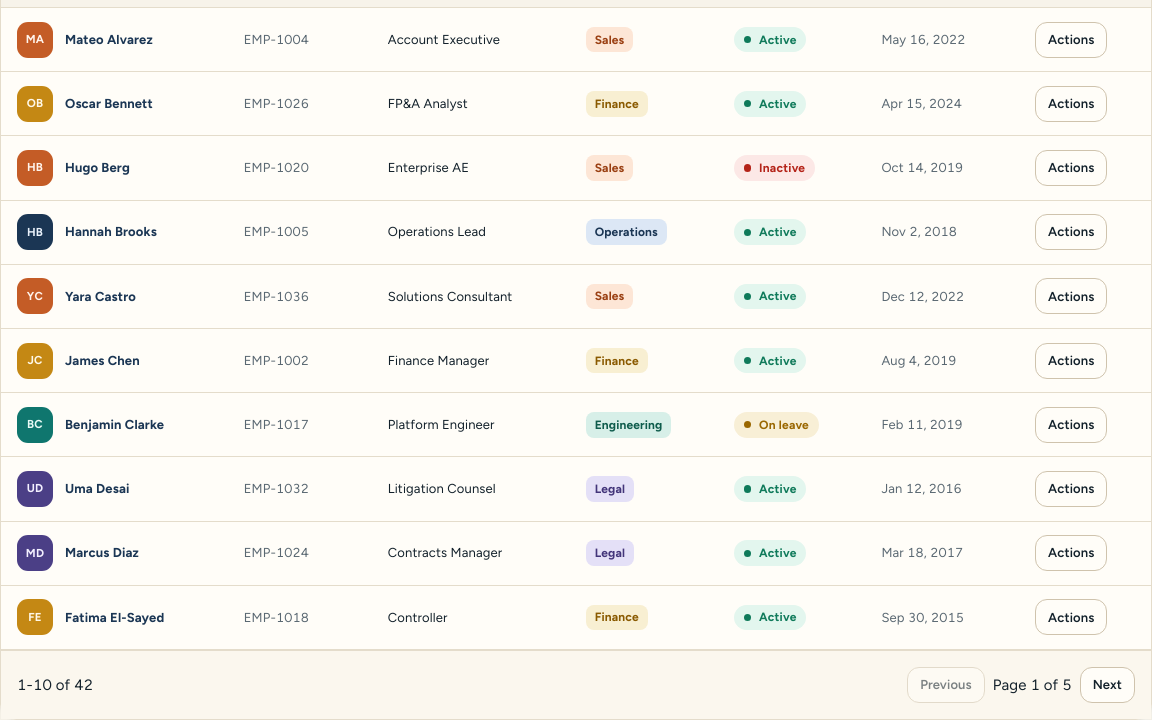
Employee edit form › populates the form and updates the list
The width and height of the screenshot is (1152, 720).
(page scrolled)
Click the button with aria-label "Actions for James Chen" at (1071, 361), box [1035, 343, 1107, 379]
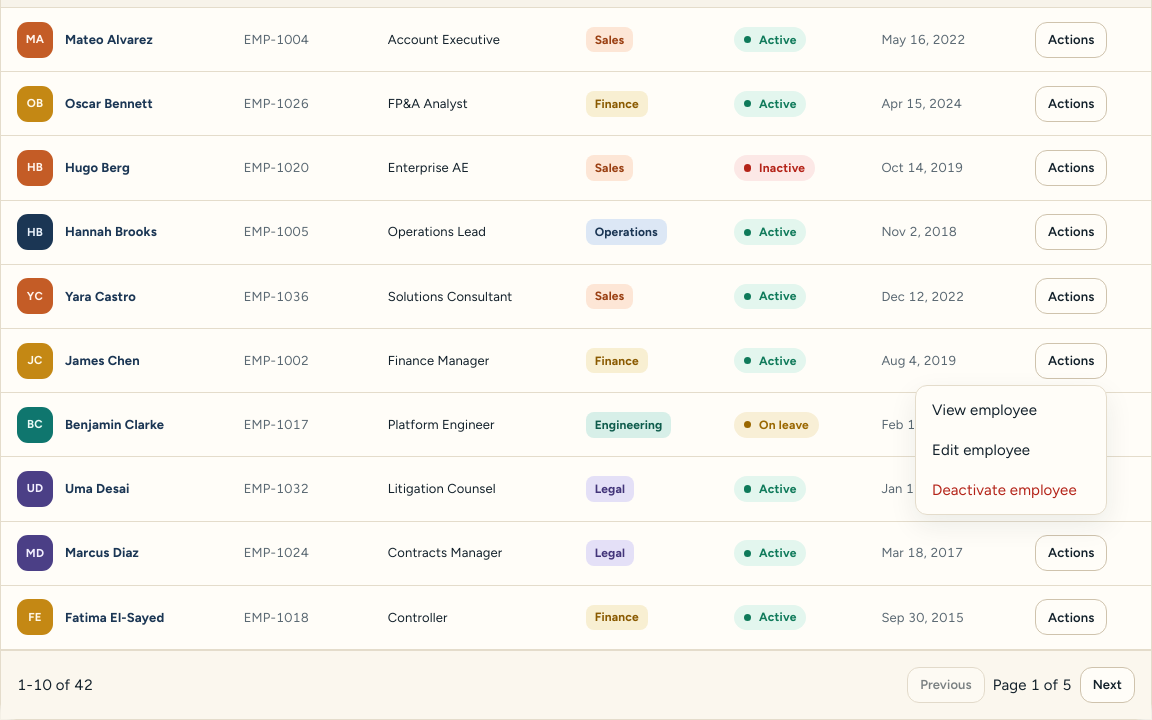
Click the menu item "Edit employee" at (981, 450), box [932, 441, 1030, 459]
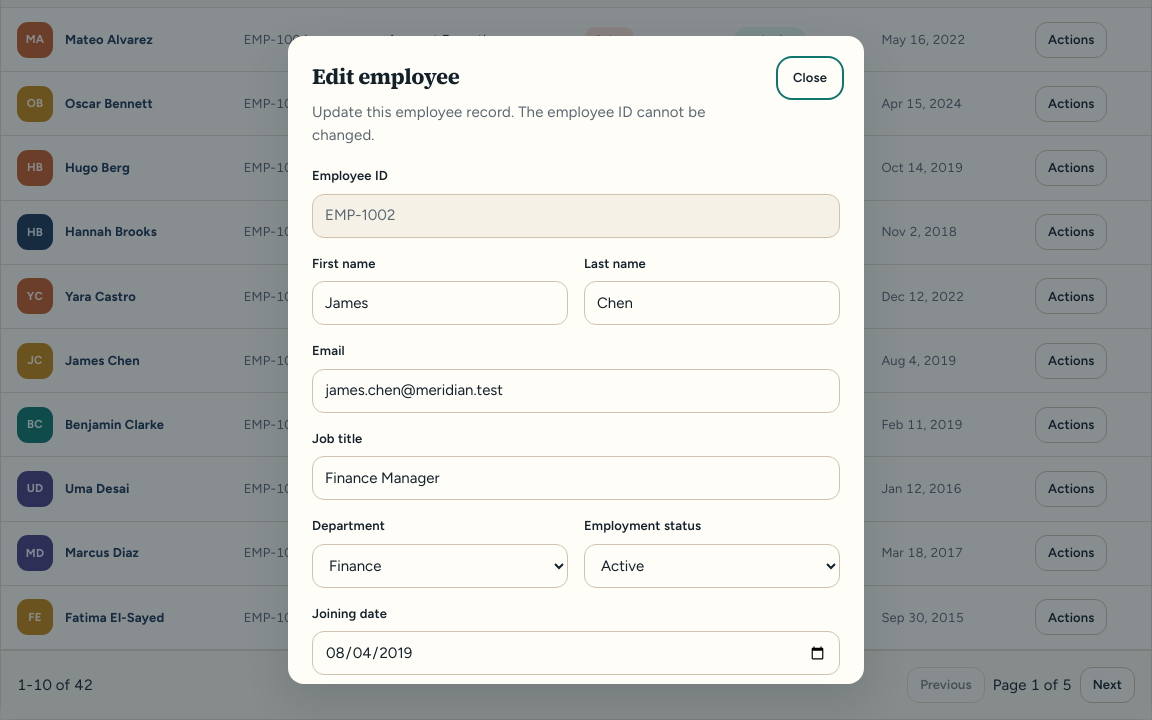
Expected: the field labelled "First name" holds "James", [312, 281, 568, 325]
Expected: the field labelled "Employee ID" holds "EMP-1002", [312, 194, 840, 238]
Replace the text in the field labelled "Job title" with "Director of Finance" at (576, 478), box [312, 456, 840, 500]
(page scrolled)
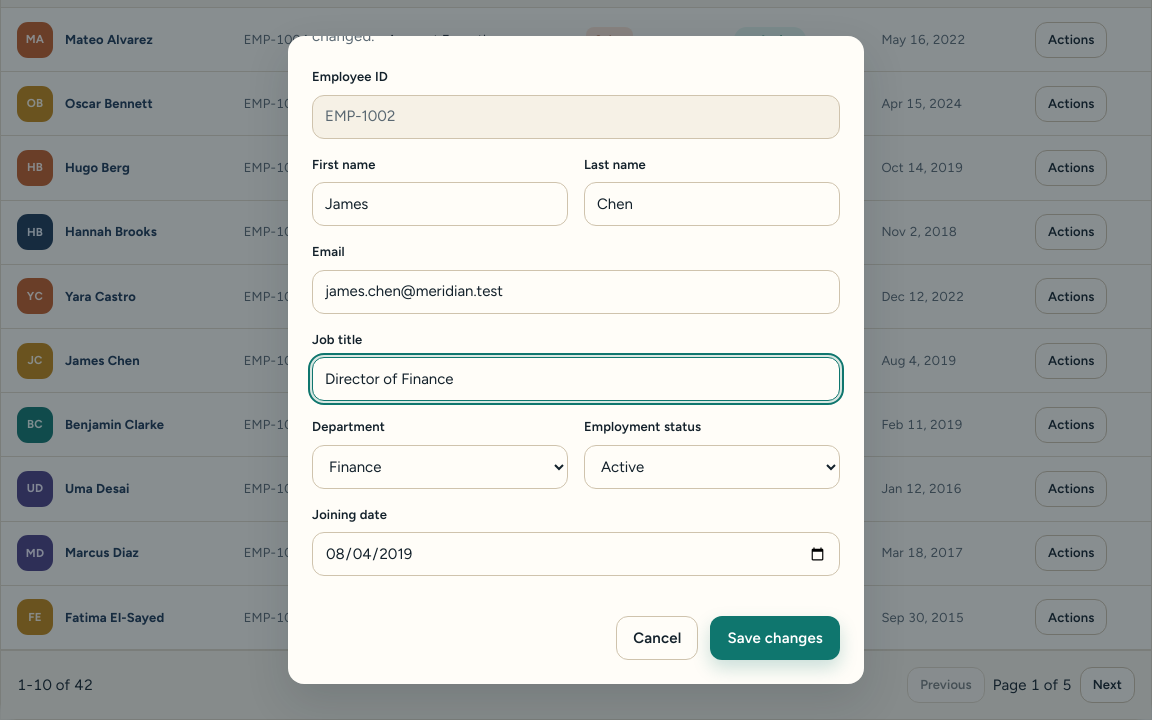
Click the button "Save changes" at (775, 638), box [710, 616, 840, 660]
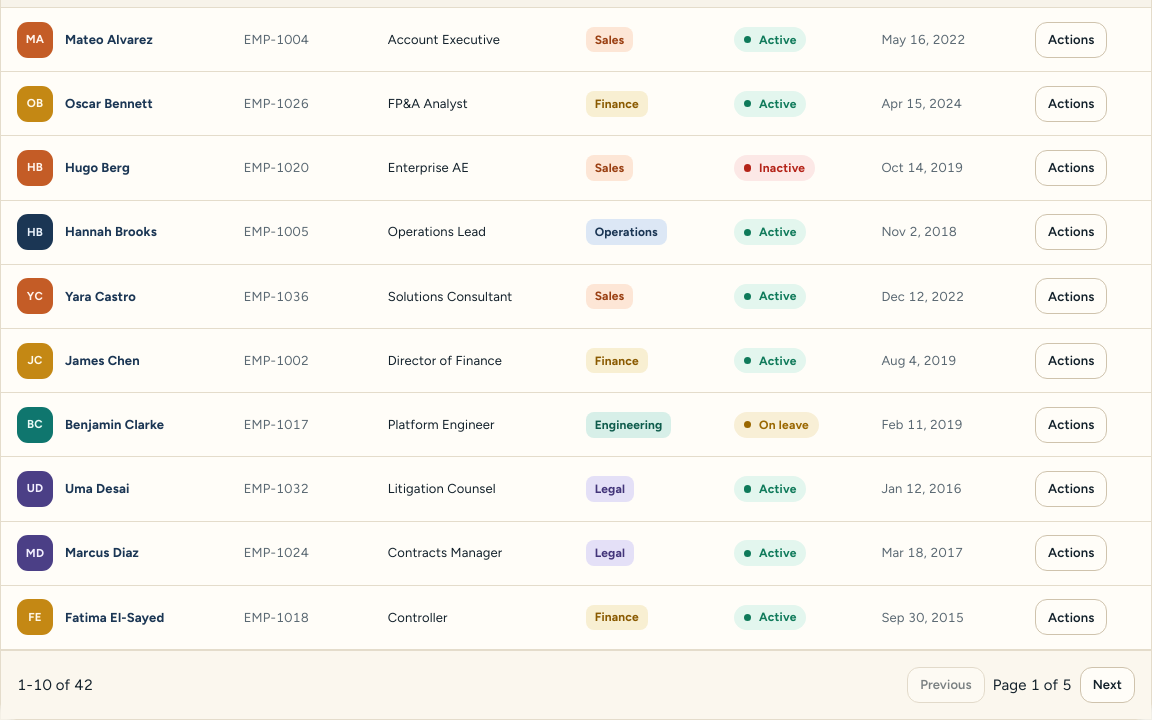
Expected: the text "Finance Manager" is not shown
